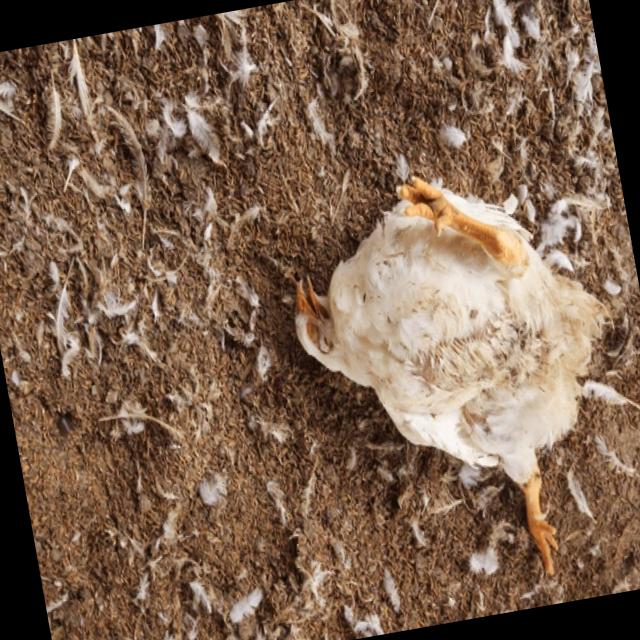dead: (259, 134, 640, 594)
